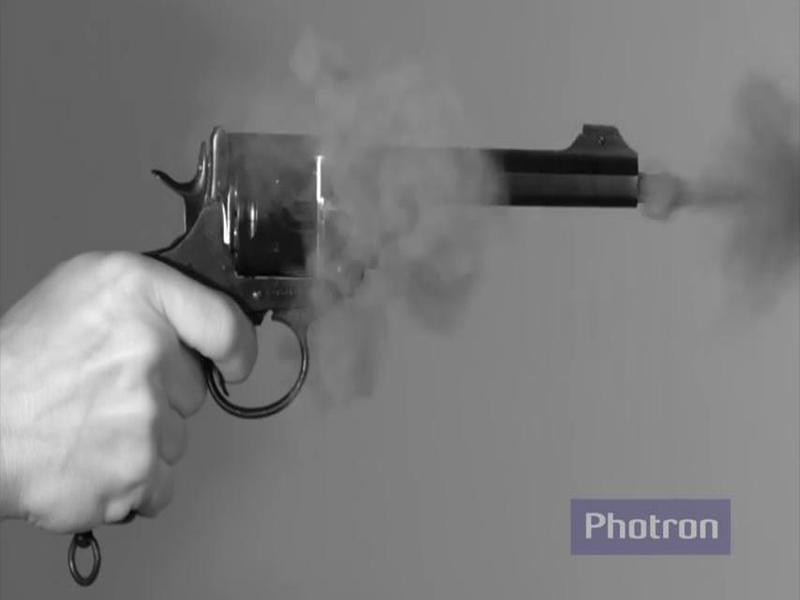Revolver: (112, 97, 664, 436)
